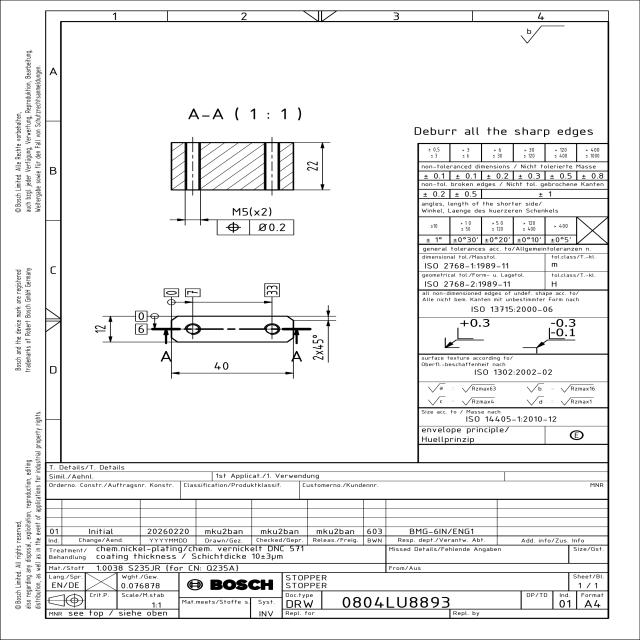dimension: (231, 206, 273, 218), (312, 333, 324, 361), (257, 222, 287, 232), (92, 324, 107, 336), (214, 360, 231, 370), (306, 161, 319, 173), (265, 285, 278, 296), (164, 288, 178, 296), (186, 288, 199, 296), (137, 324, 146, 334), (138, 311, 146, 322)
